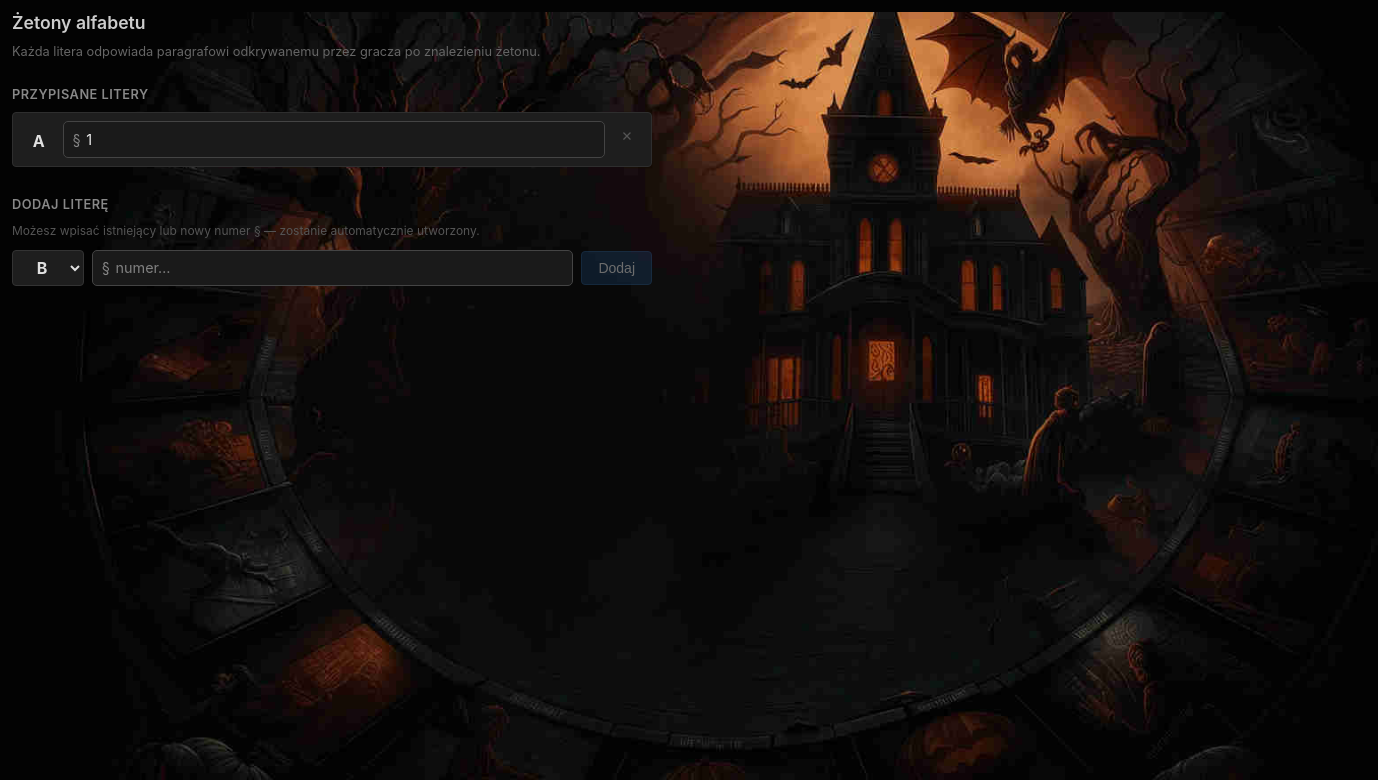
Test: LettersEditor › shows error when paragraph is already assigned to another letter
The image size is (1378, 780).
Type "1" into the field with placeholder "numer…".
click(343, 268); type("1")  # box [114,251,572,285]
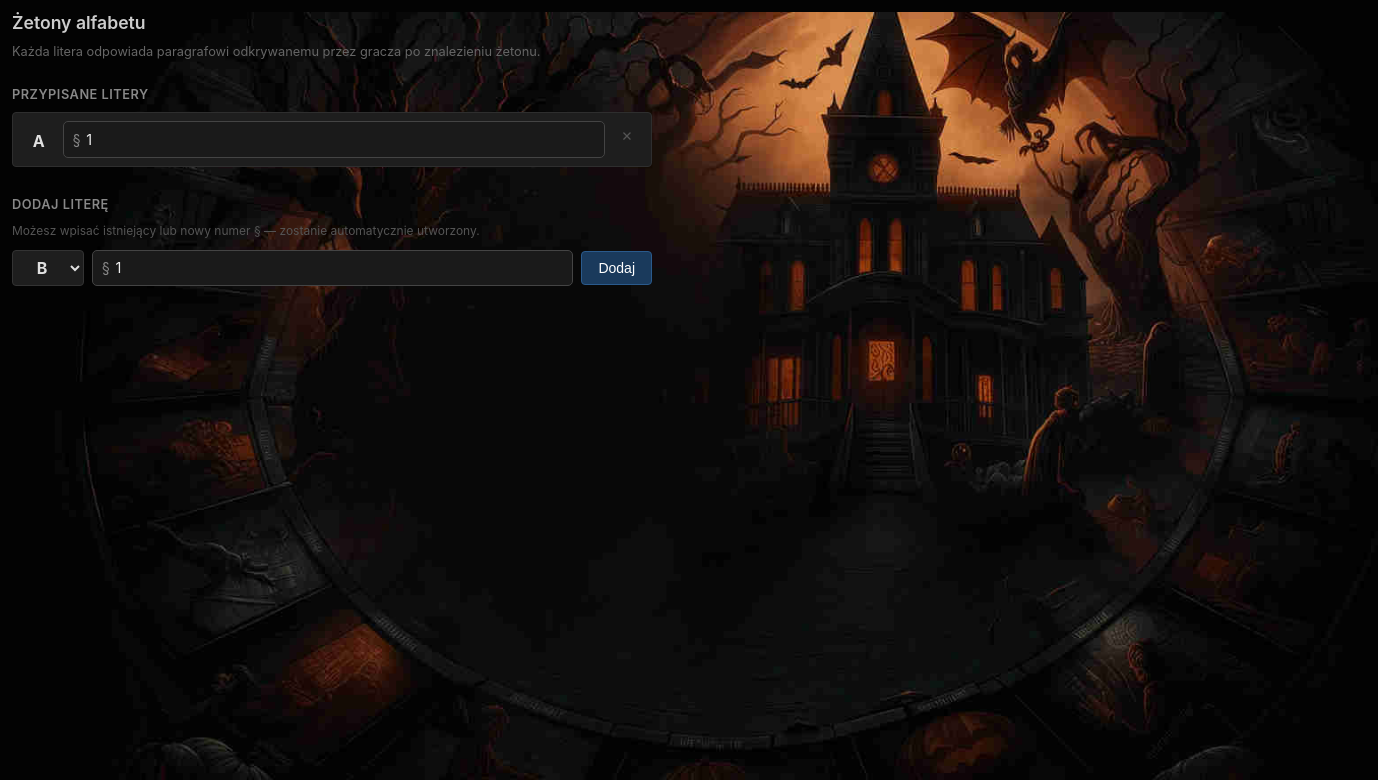
Click the button "Dodaj".
click(617, 268)  # box [581,251,652,285]
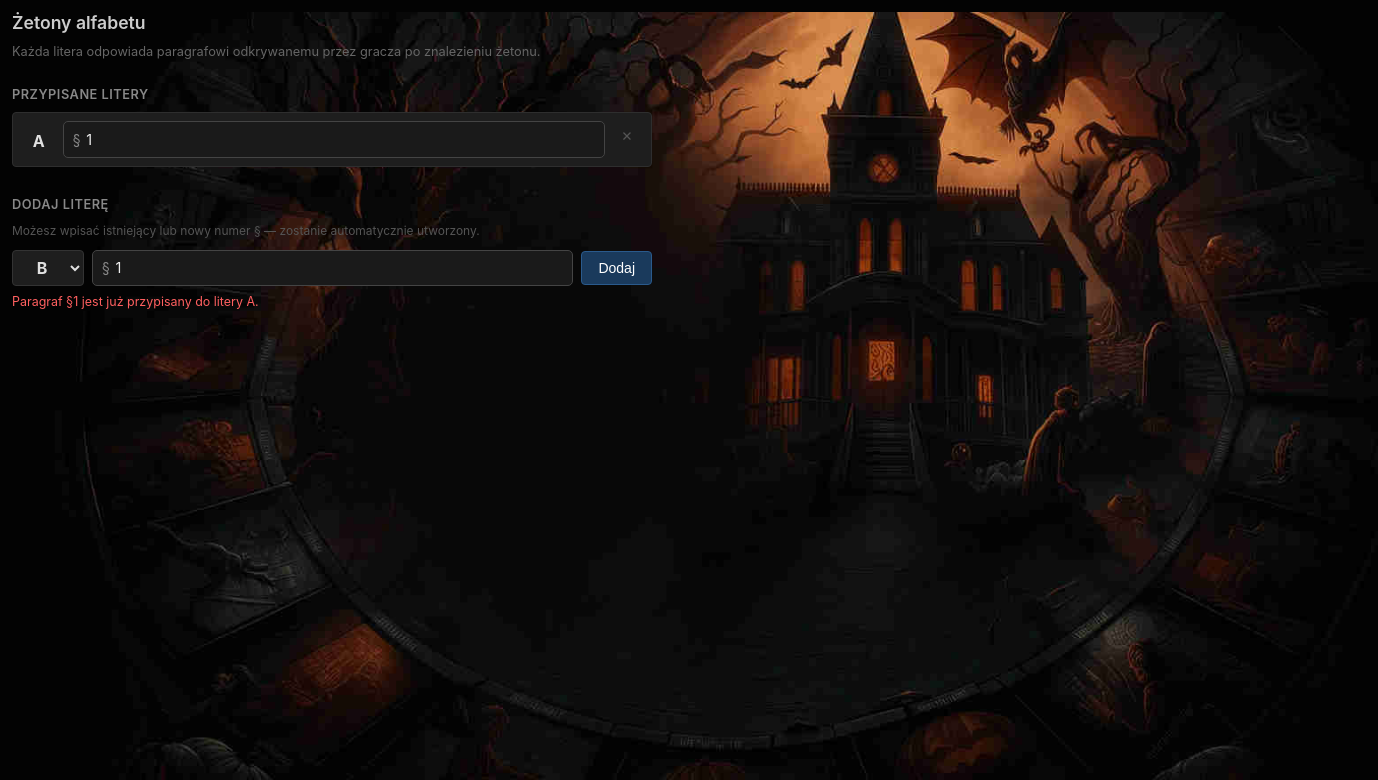
Check: the text "Paragraf §1 jest już przypisany do litery A." is shown, box [12,294,259,309]
